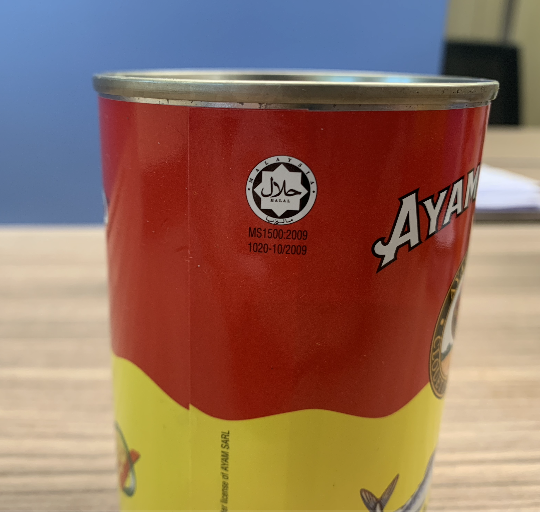halal: (257, 170, 306, 208)
